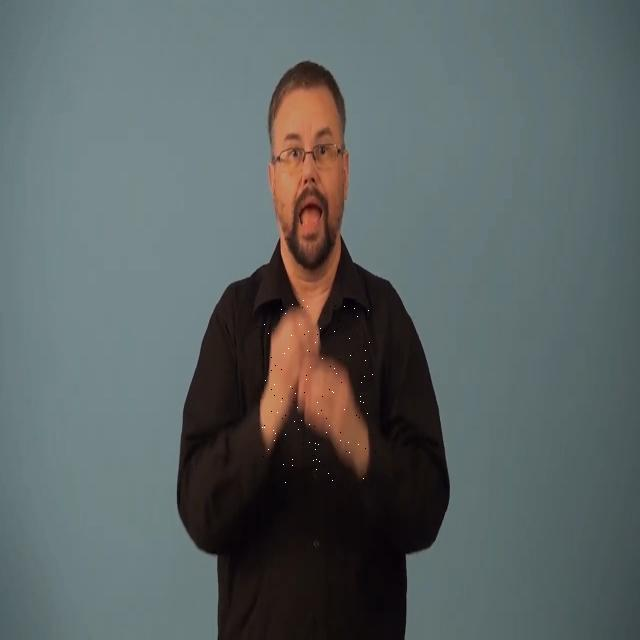juicy: (256, 298, 376, 490)
